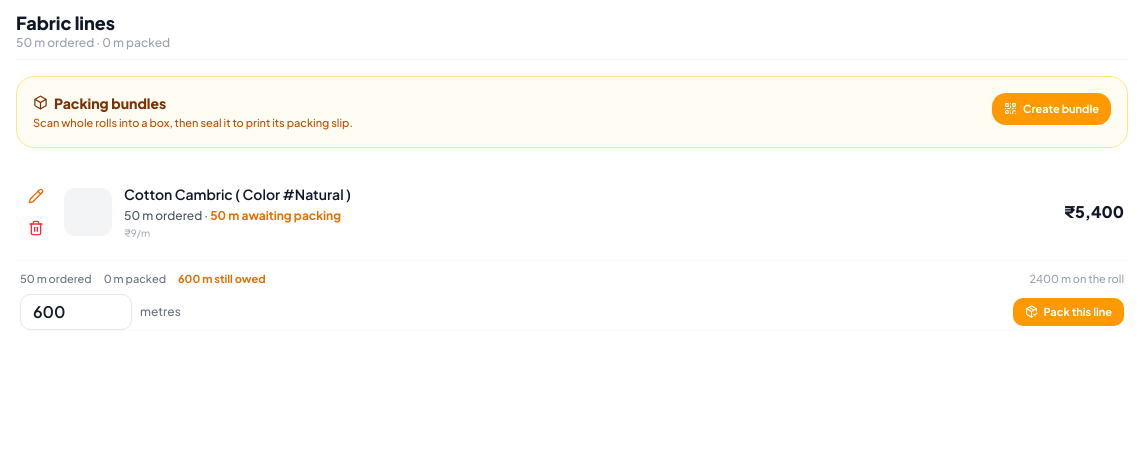
it: OrderItemsSection over-packed quantities › pre-fills the box with the metres actually packed
Replace the text in the number field named "metres of cotton cambric to pack" with "49": (76, 312) [20,294,132,330]
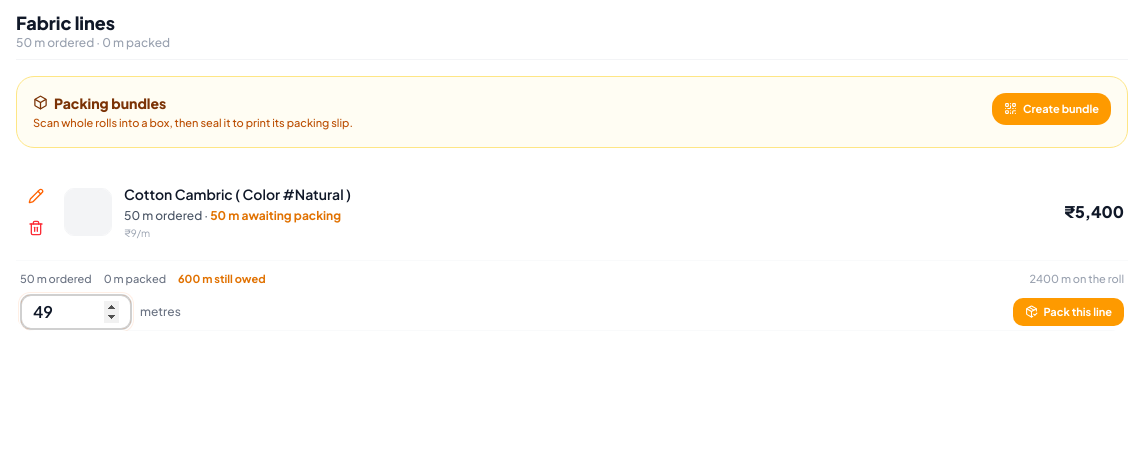
Click the button "Pack this line": (1068, 312) [1013,298,1124,326]
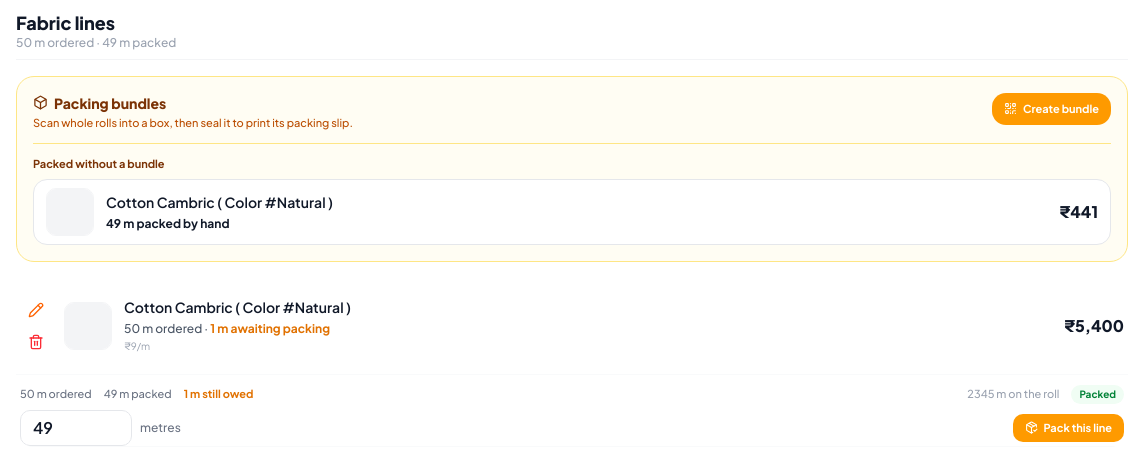
Expected: the text "1 m still owed" is shown, [184,386,253,402]
